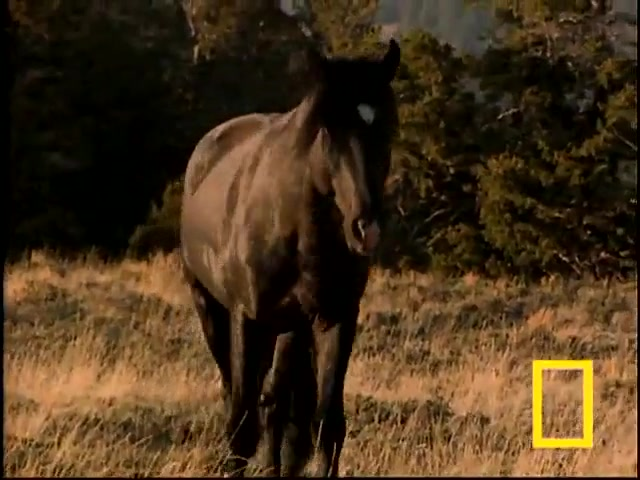horse: (176, 39, 409, 480)
